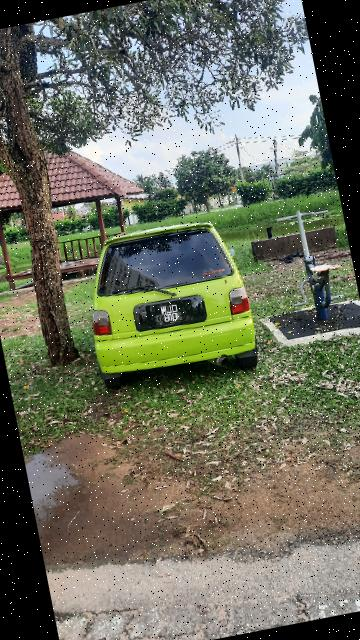License_Plate: (143, 295, 198, 332)
car: (72, 211, 263, 400)
